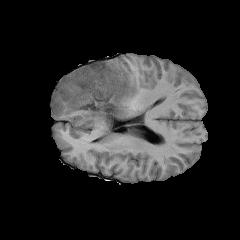glioma: (53, 61, 140, 138)
